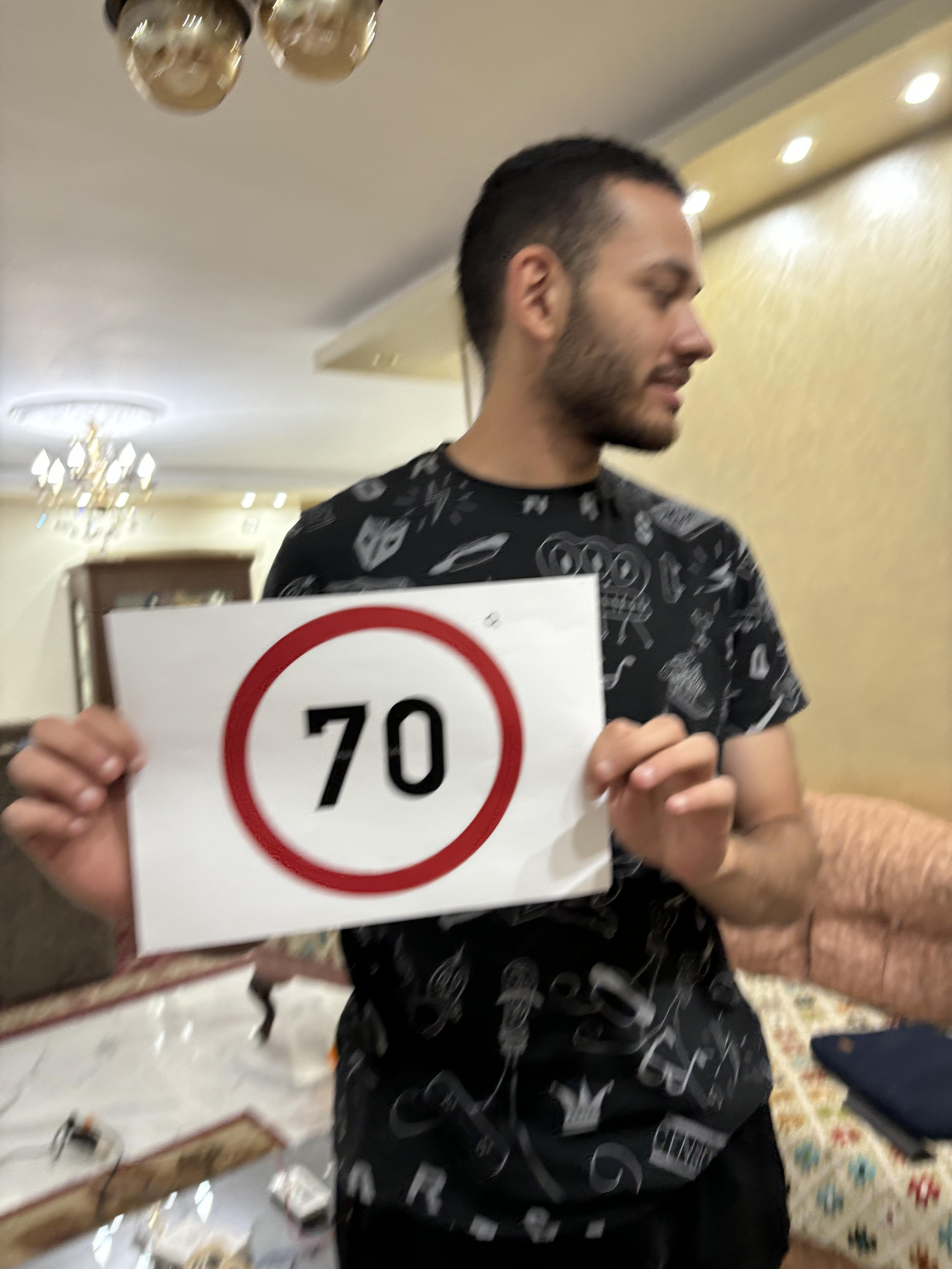70-Speed: (209, 598, 527, 893)
